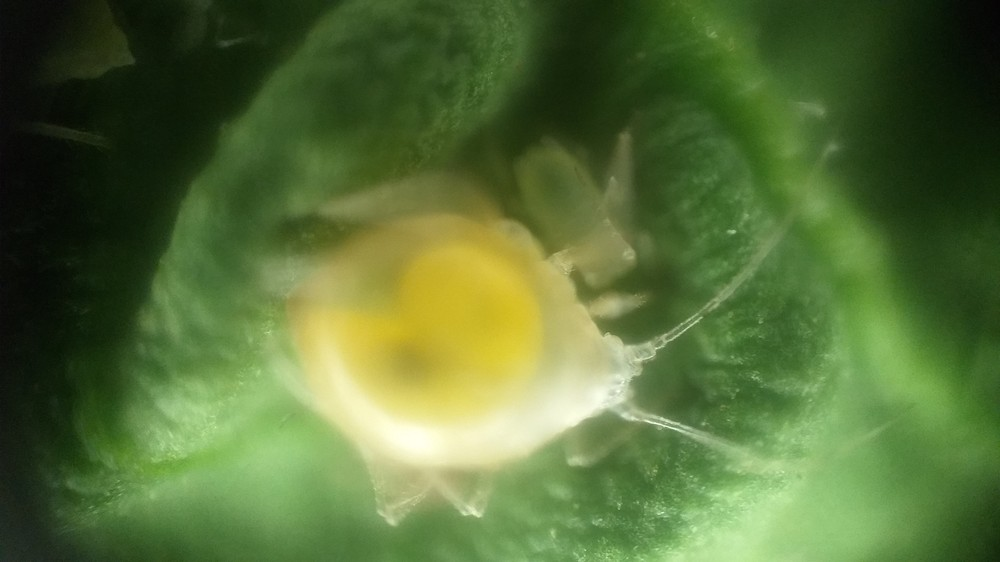Pulgon: (249, 155, 923, 526)
